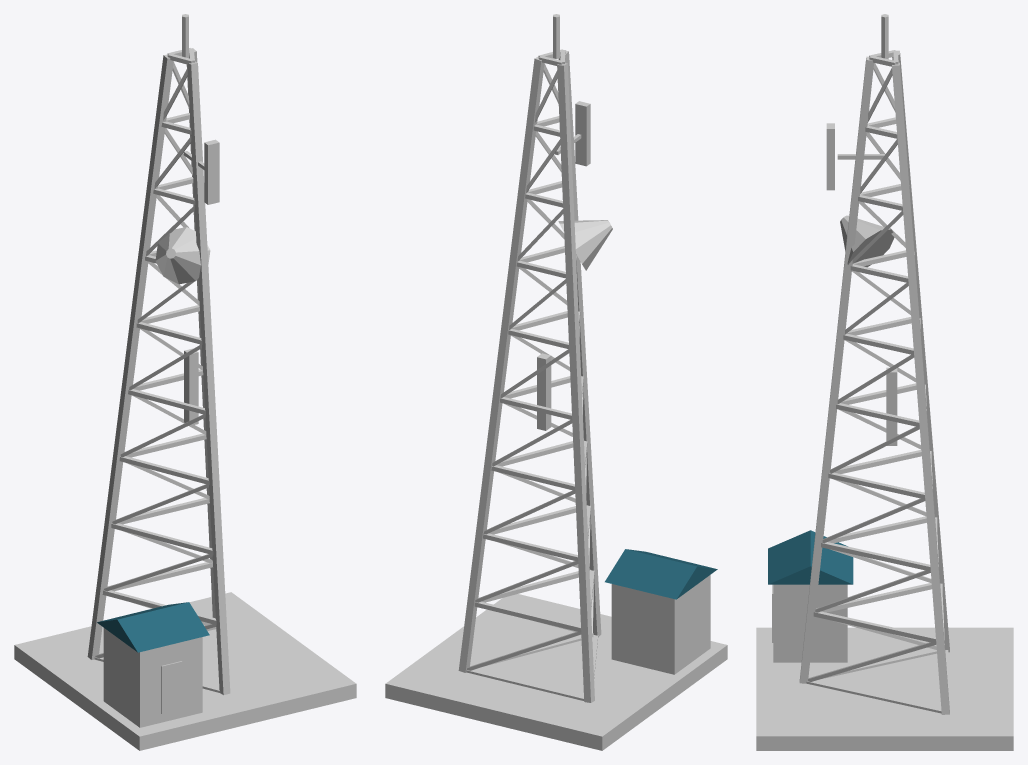
Rendered from decor_radio_tower.obj.
3 views of the same model, side by side, from view 1: azimuth 30°, elevation 25°; view 2: azimuth 150°, elevation 25°; view 3: azimuth 270°, elevation 25° (orthographic). The views are drawn at different scales.
Visible parts, largest first — view 1: Body; view 2: Body; view 3: Body.
Boxes of the visible parts, box(x1,y1,x2,y2) form: Body: box(14, 14, 356, 750); Body: box(385, 14, 727, 750); Body: box(756, 14, 1013, 750).
Bounding box in the file's own units: 1.9 × 5.55 × 1.9.
